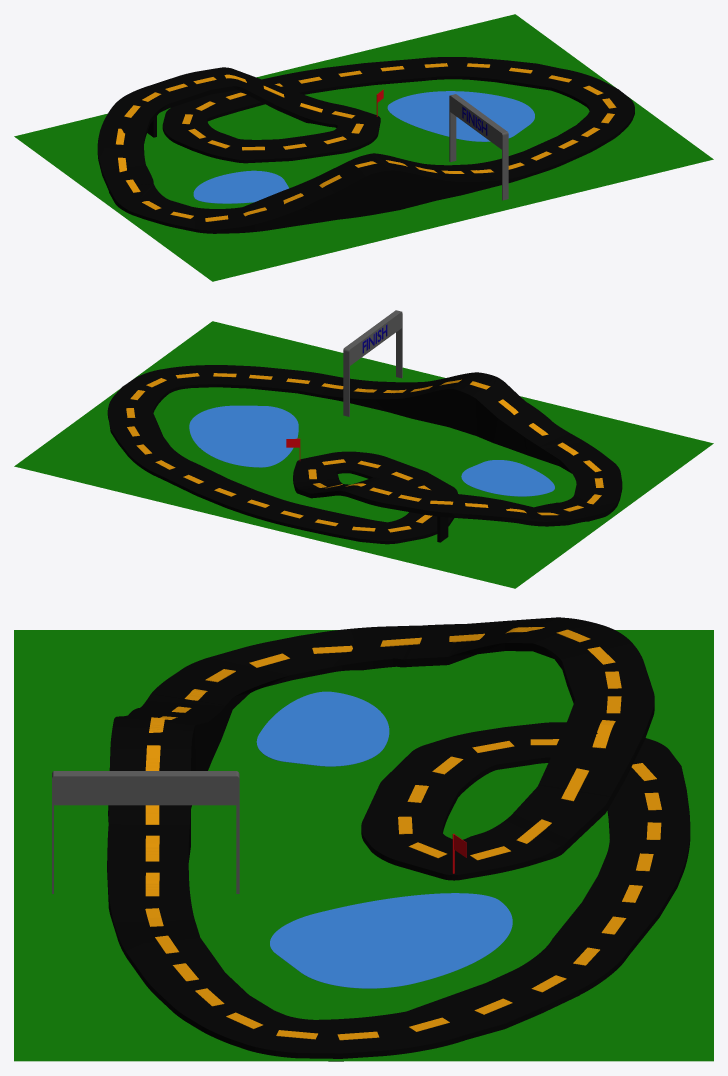
Rendered from Track#1.fbx.
3 views of the same model, one above another, from view 1: azimuth 30°, elevation 25°; view 2: azimuth 150°, elevation 25°; view 3: azimuth 270°, elevation 25° (orthographic). The views are drawn at different scales.
Visible parts, largest first — view 1: Plane, Cube, Cube.046, Cube.023, Cube.002; view 2: Plane, Cube, Cube.046, Cube.023, Cube.002; view 3: Plane, Cube, Cube.046, Cube.023, Cube.002.
Part boxes in pixels (x1=…): Plane: x1=14, y1=14, x2=713, y2=281; Cube: x1=97, y1=57, x2=634, y2=233; Cube.046: x1=387, y1=91, x2=534, y2=141; Cube.023: x1=193, y1=170, x2=288, y2=203; Cube.002: x1=449, y1=94, x2=508, y2=200; Plane: x1=14, y1=321, x2=713, y2=588; Cube: x1=107, y1=365, x2=622, y2=544; Cube.046: x1=189, y1=405, x2=298, y2=467; Cube.023: x1=461, y1=460, x2=554, y2=496; Cube.002: x1=343, y1=310, x2=402, y2=416; Plane: x1=14, y1=630, x2=713, y2=1061; Cube: x1=107, y1=617, x2=690, y2=1061; Cube.046: x1=270, y1=893, x2=512, y2=988; Cube.023: x1=256, y1=691, x2=389, y2=766; Cube.002: x1=52, y1=771, x2=239, y2=893.
Bounding box in the file's own units: 2514 × 368 × 1725.
